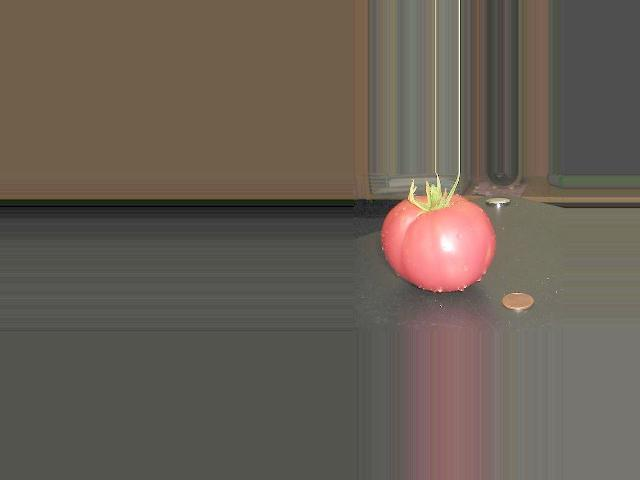tomato: (380, 194, 494, 292)
